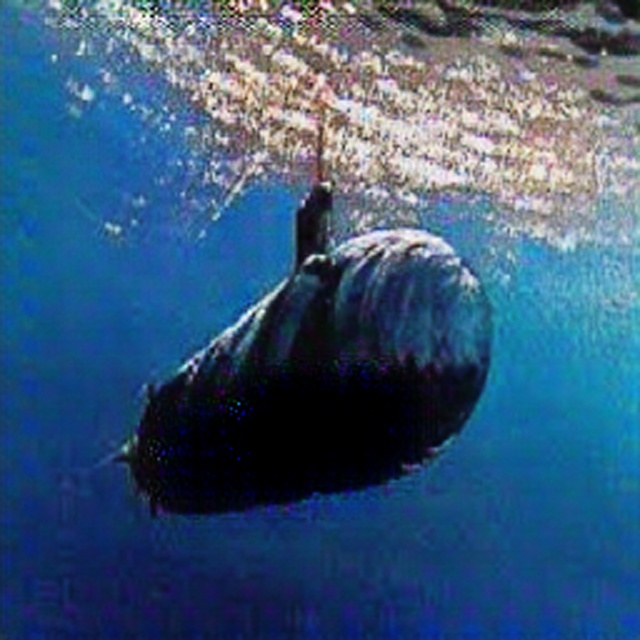submarine: (118, 188, 498, 534)
